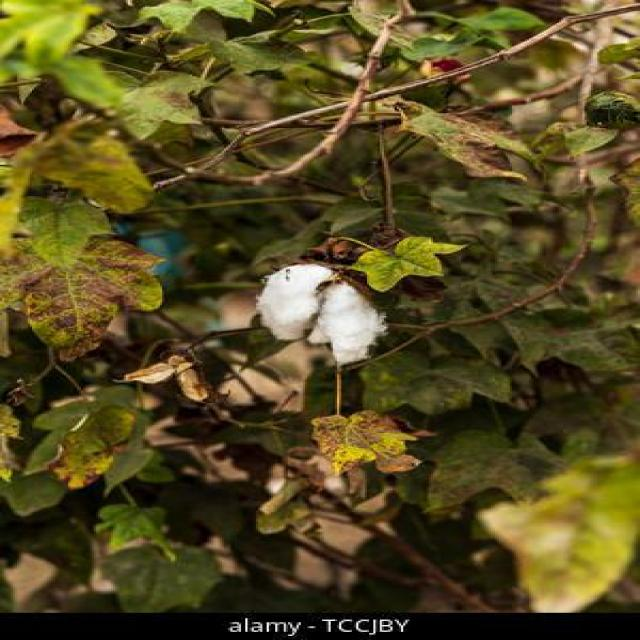Late_blight: (254, 237, 394, 364)
